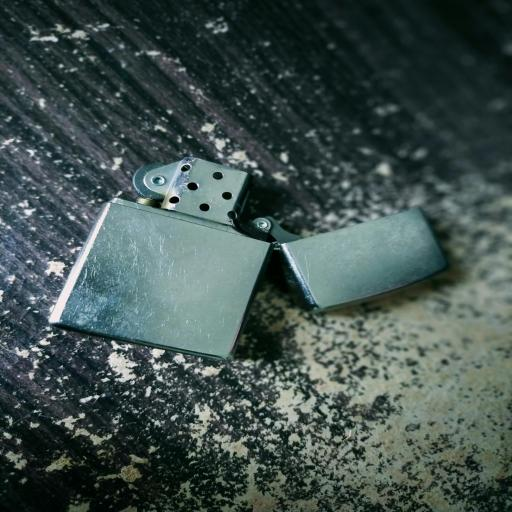lighter: (58, 104, 461, 395)
